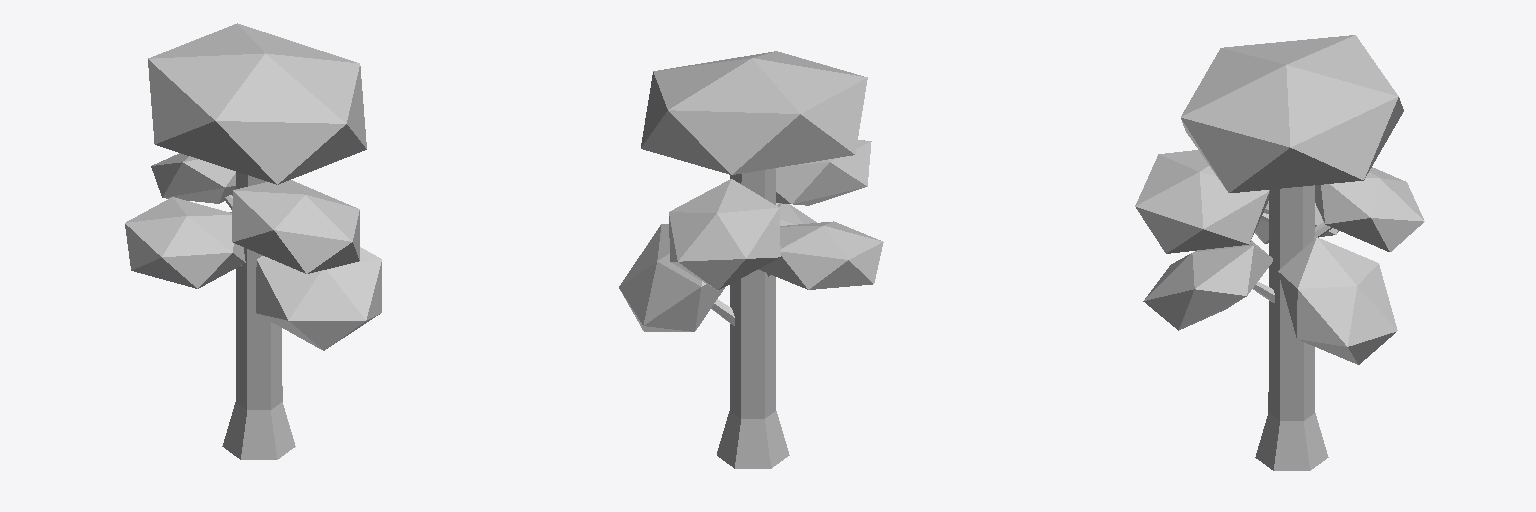
The model's file is tree2LP.obj.
3 renders of one model, left to right at view 1: azimuth 30°, elevation 25°; view 2: azimuth 150°, elevation 25°; view 3: azimuth 270°, elevation 25°, orthographic.
Parts seen in each view (by area): view 1: Icosphere.004_Icosphere.008, Cylinder.002_Cylinder.007; view 2: Icosphere.004_Icosphere.008, Cylinder.002_Cylinder.007; view 3: Icosphere.004_Icosphere.008, Cylinder.002_Cylinder.007.
Part boxes in pixels (left/top/right/bottom): Icosphere.004_Icosphere.008: left=125, top=23, right=381, bottom=350; Cylinder.002_Cylinder.007: left=222, top=172, right=295, bottom=459; Icosphere.004_Icosphere.008: left=619, top=51, right=883, bottom=331; Cylinder.002_Cylinder.007: left=711, top=168, right=789, bottom=468; Icosphere.004_Icosphere.008: left=1135, top=35, right=1424, bottom=364; Cylinder.002_Cylinder.007: left=1253, top=185, right=1331, bottom=470.
Bounding box in the file's own units: 1.8 × 2.93 × 1.95.